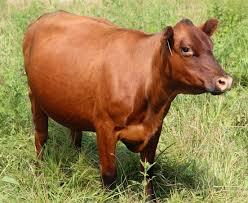cow: (22, 10, 233, 203)
